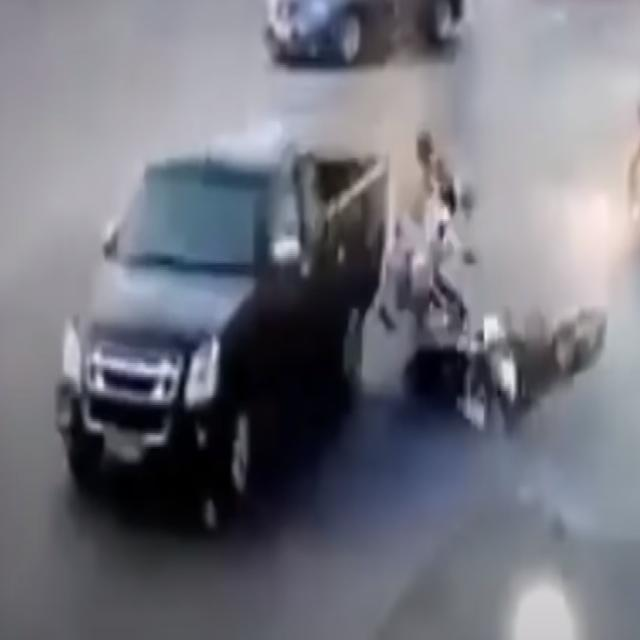accident: (52, 121, 612, 543)
